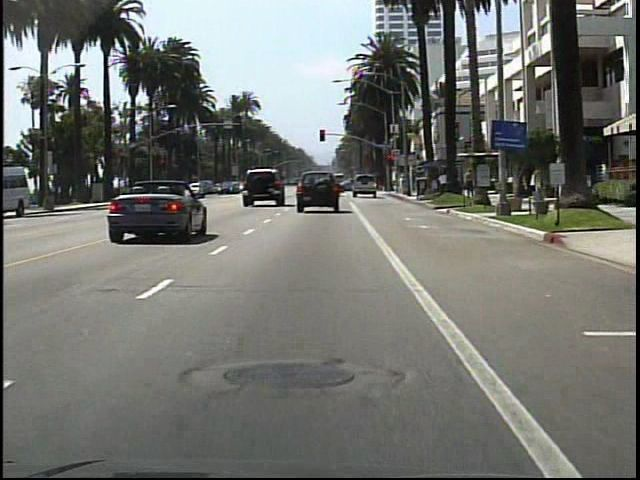person: (462, 165, 476, 201), (434, 170, 450, 197)
